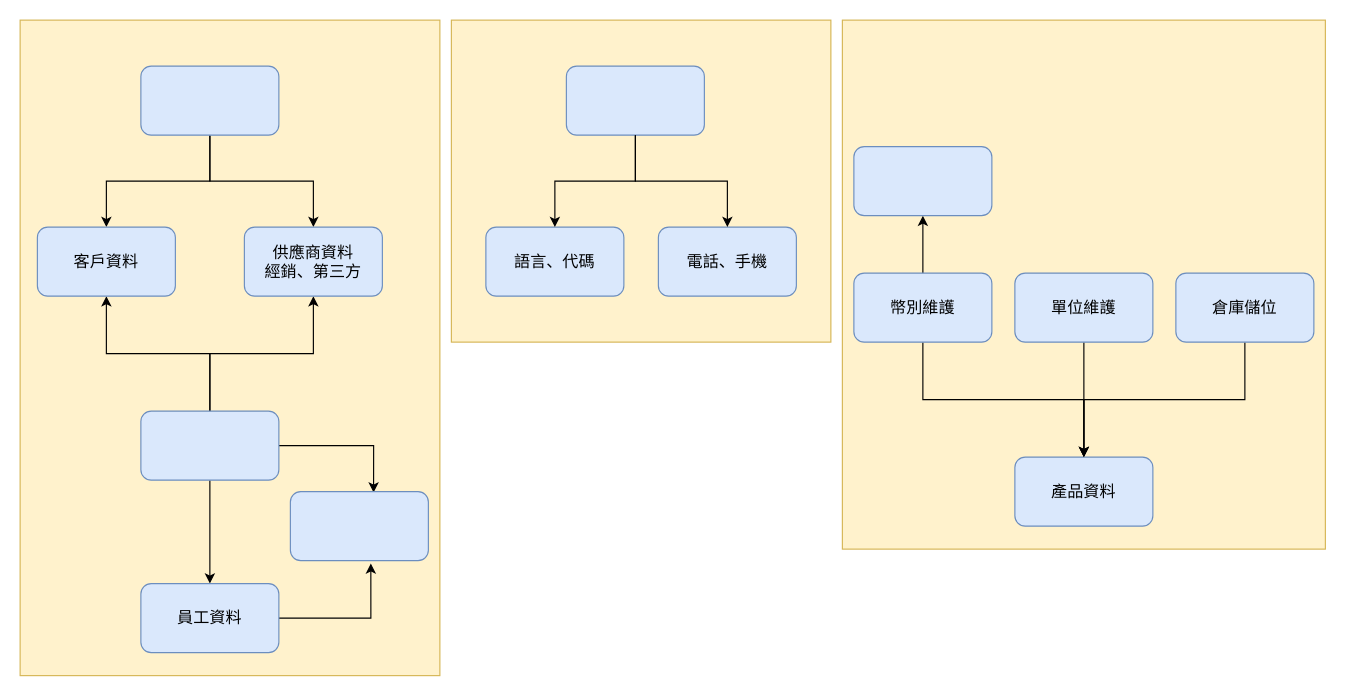
Some shapes in this 1346 by 696 pixel diagram are drawn without their labels. Here are the shapes that lost their labels. From the top down, the box of each, then its label:
(140, 65, 279, 135): 公司資料
(565, 65, 704, 135): 國別、代碼
(853, 145, 992, 216): 匯率維護
(140, 410, 279, 480): 人脈池
(289, 490, 428, 561): 平台用戶
